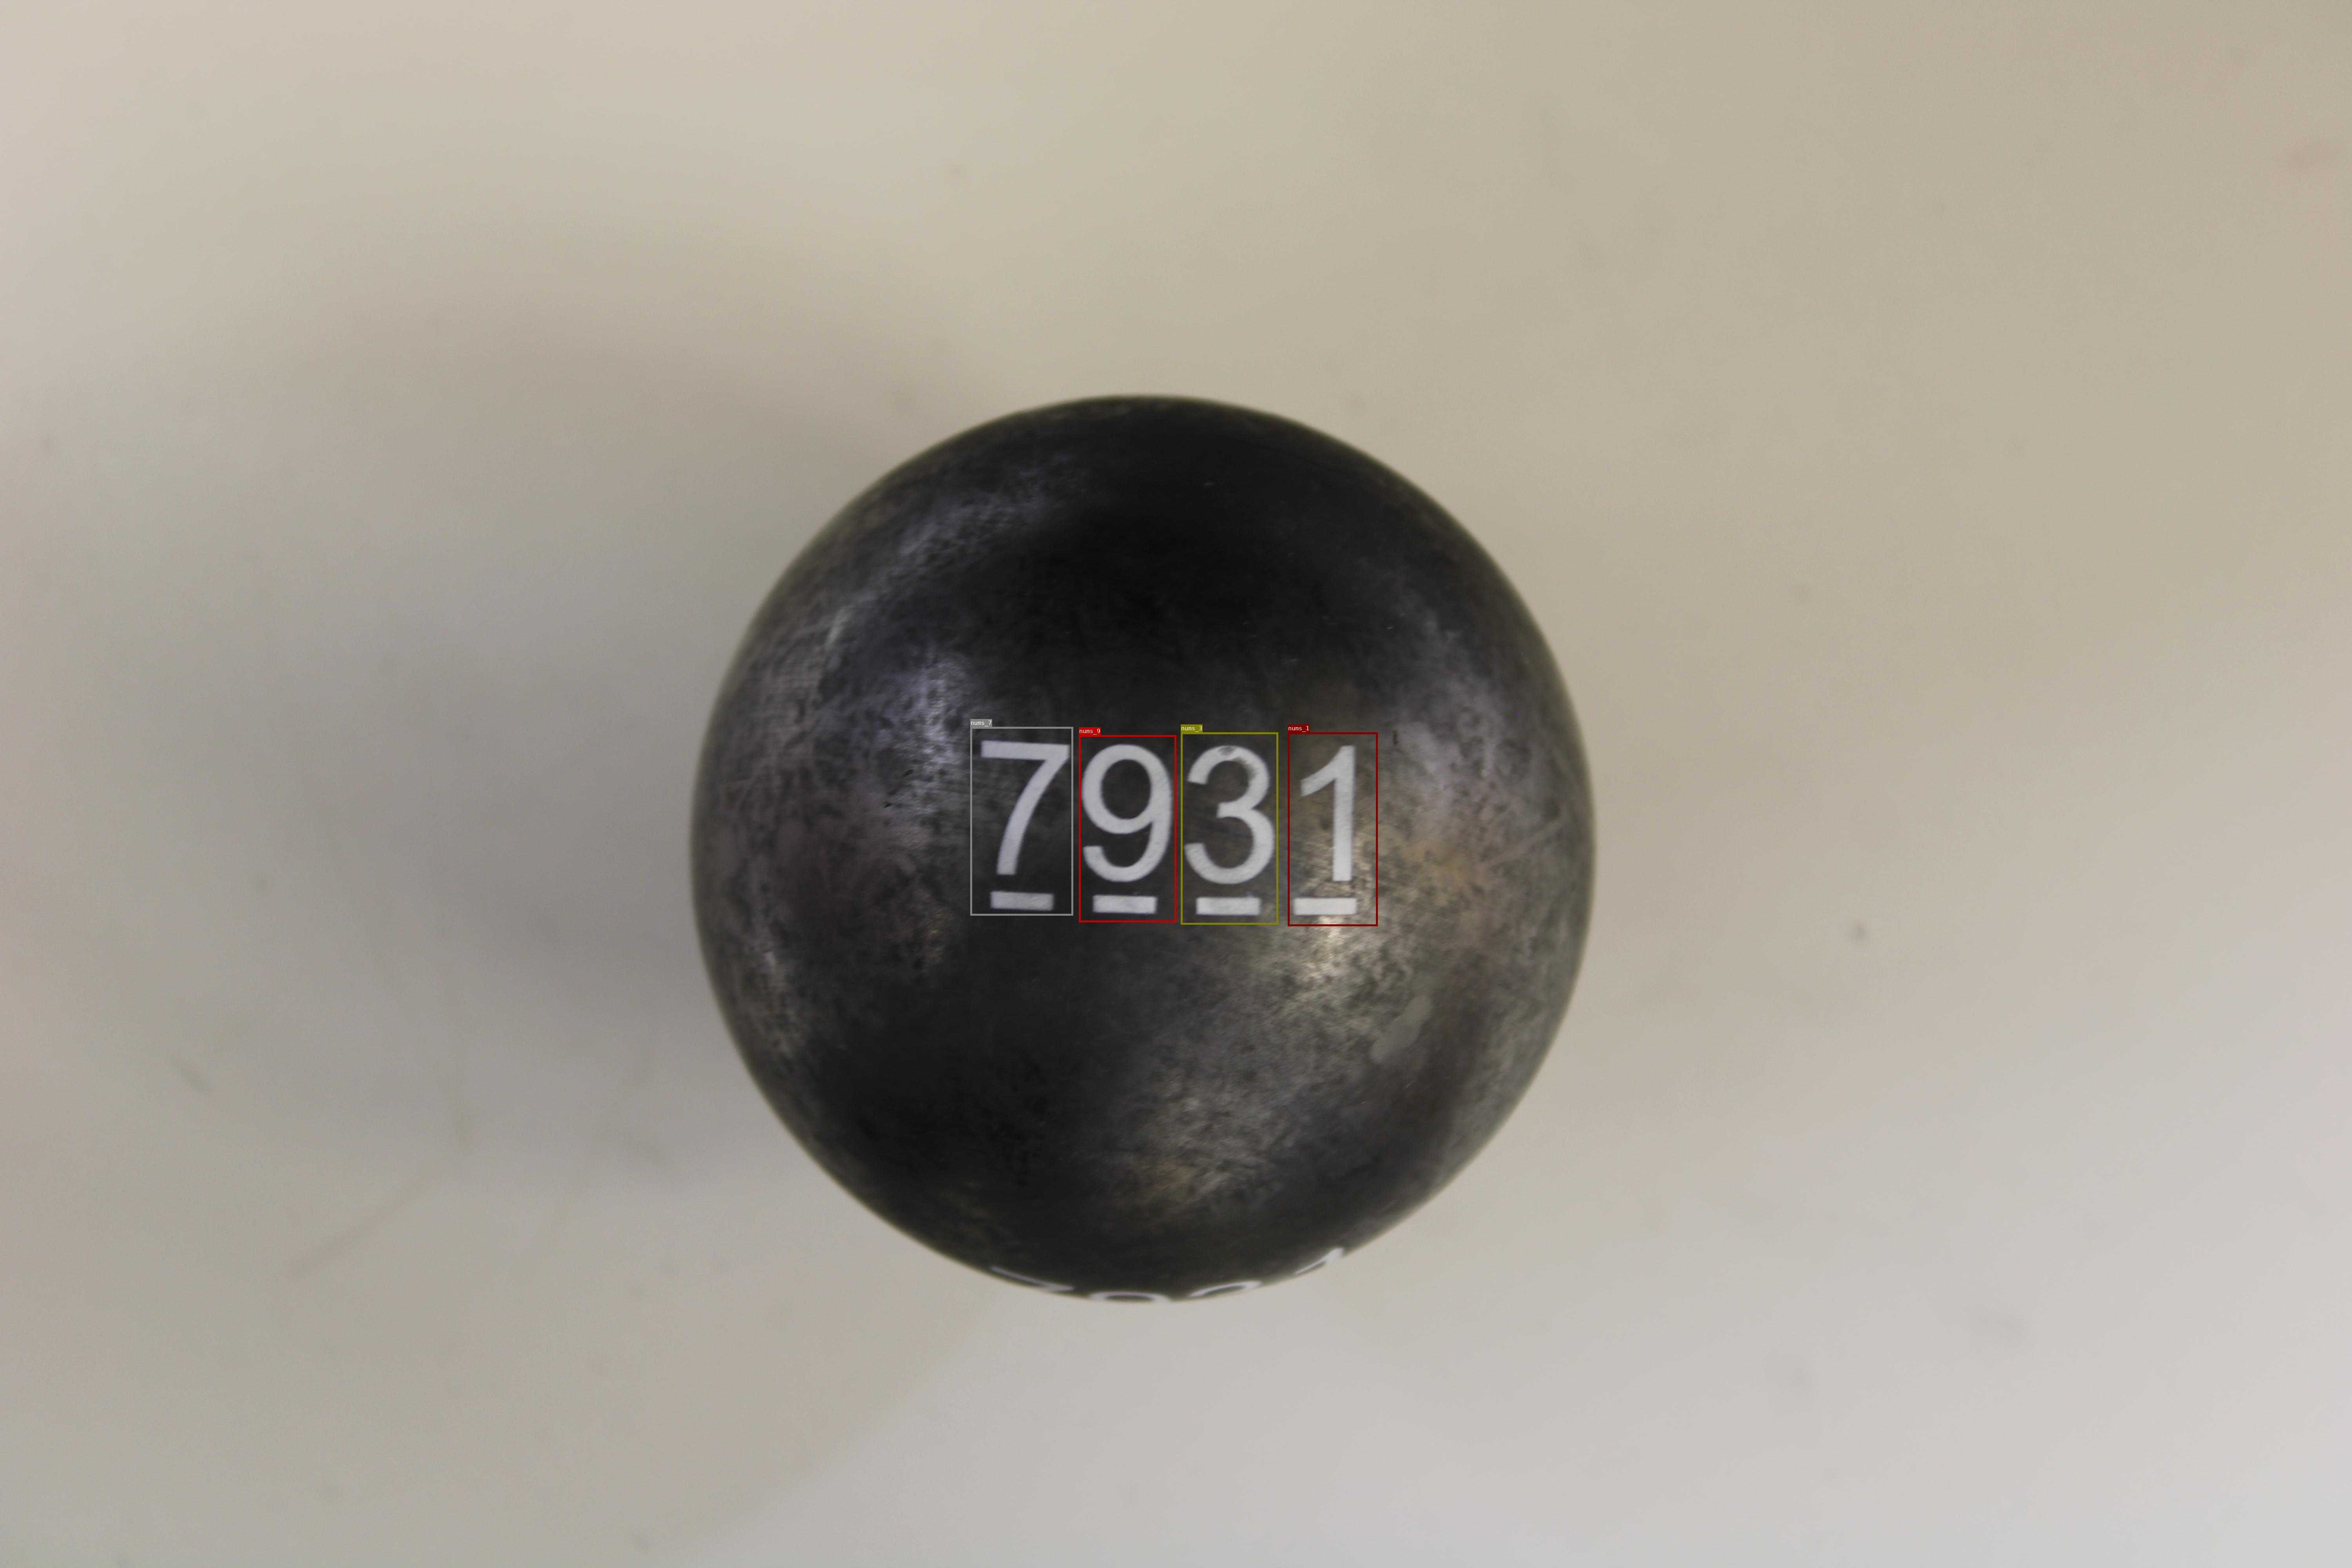nums_1: (1288, 732, 1377, 926)
nums_3: (1181, 732, 1277, 924)
nums_7: (970, 726, 1073, 915)
nums_9: (1078, 735, 1176, 922)
